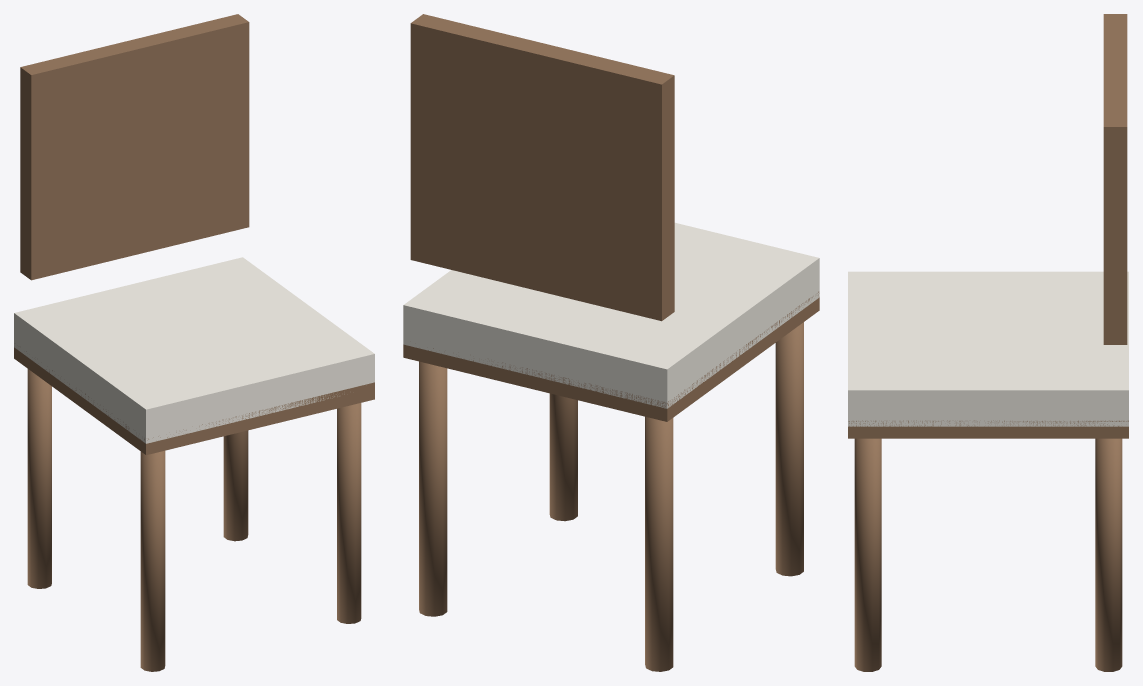
The model's file is chair.glb.
The picture shows the model from 3 angles, left to right: view 1: azimuth 30°, elevation 25°; view 2: azimuth 150°, elevation 25°; view 3: azimuth 270°, elevation 25°; orthographic projection. The views are drawn at different scales.
Visible parts, largest first — view 1: chair; view 2: chair; view 3: chair.
Boxes of the visible parts, left/top/right/bottom form: chair: left=14, top=14, right=374, bottom=671; chair: left=403, top=14, right=819, bottom=671; chair: left=848, top=14, right=1128, bottom=671.
Bounding box in the file's own units: 0.42 × 0.9 × 0.42.
